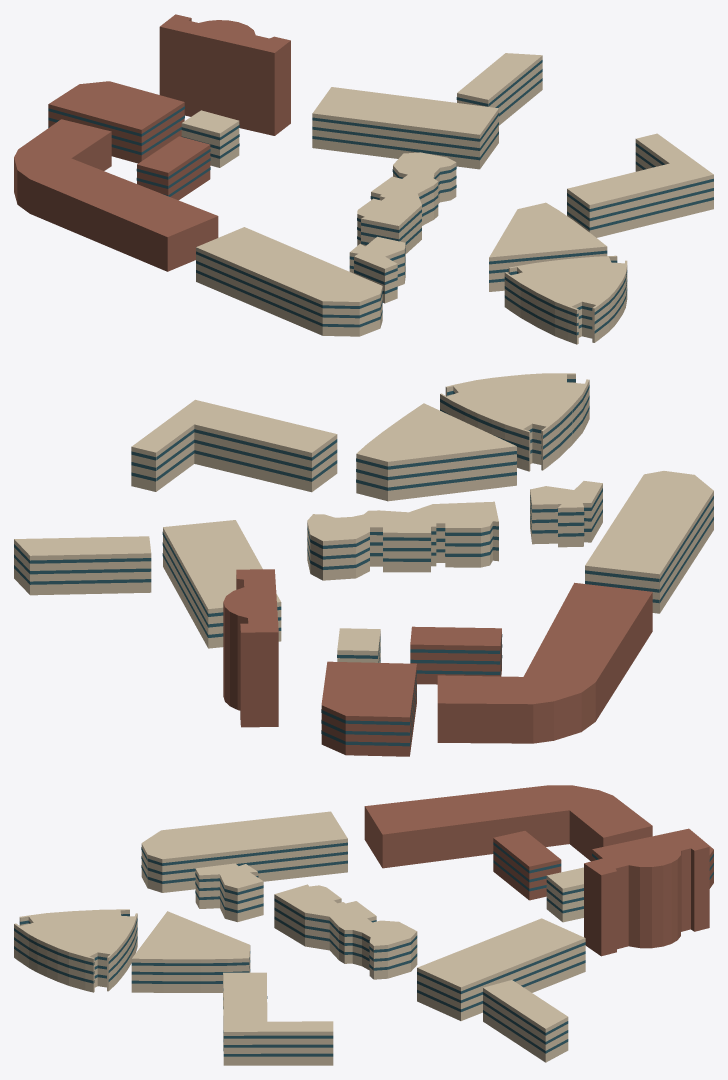
Rendered from city_-2_5.glb.
3 renders of one model, top to bottom at view 1: azimuth 30°, elevation 25°; view 2: azimuth 150°, elevation 25°; view 3: azimuth 270°, elevation 25°, orthographic. The views are drawn at different scales.
Parts seen in each view (by area): view 1: city_-2_5; view 2: city_-2_5; view 3: city_-2_5.
Part boxes in pixels (x1,y1,x2,y2): city_-2_5: (14,14,713,344); city_-2_5: (14,373,713,756); city_-2_5: (14,785,713,1065).
Bounding box in the file's own units: 235 × 36 × 282.
